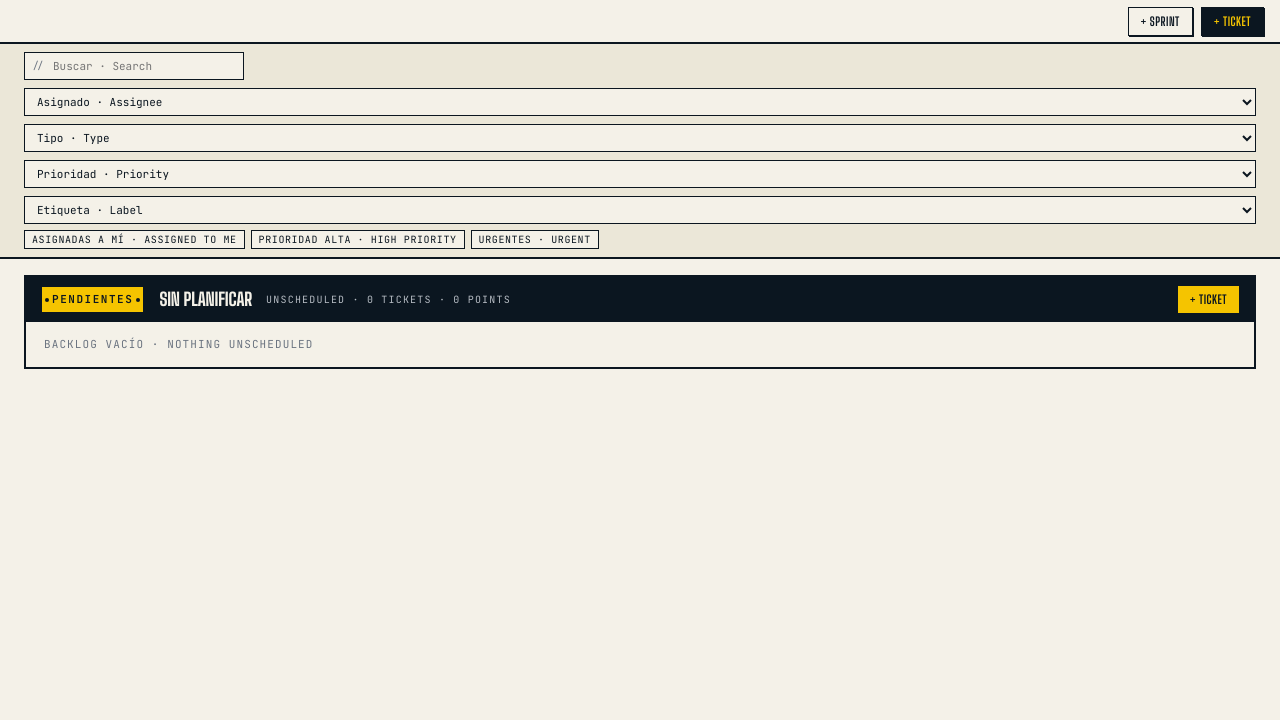
Test: BacklogPage (coverage) › shows the "Creando…" pending label while an issue is being created
The width and height of the screenshot is (1280, 720).
Expected: the text "PENDIENTES" is shown, [40,285,145,314]
Click the 1st button "+ Ticket".
click(1232, 21)  # box [1201,6,1264,36]
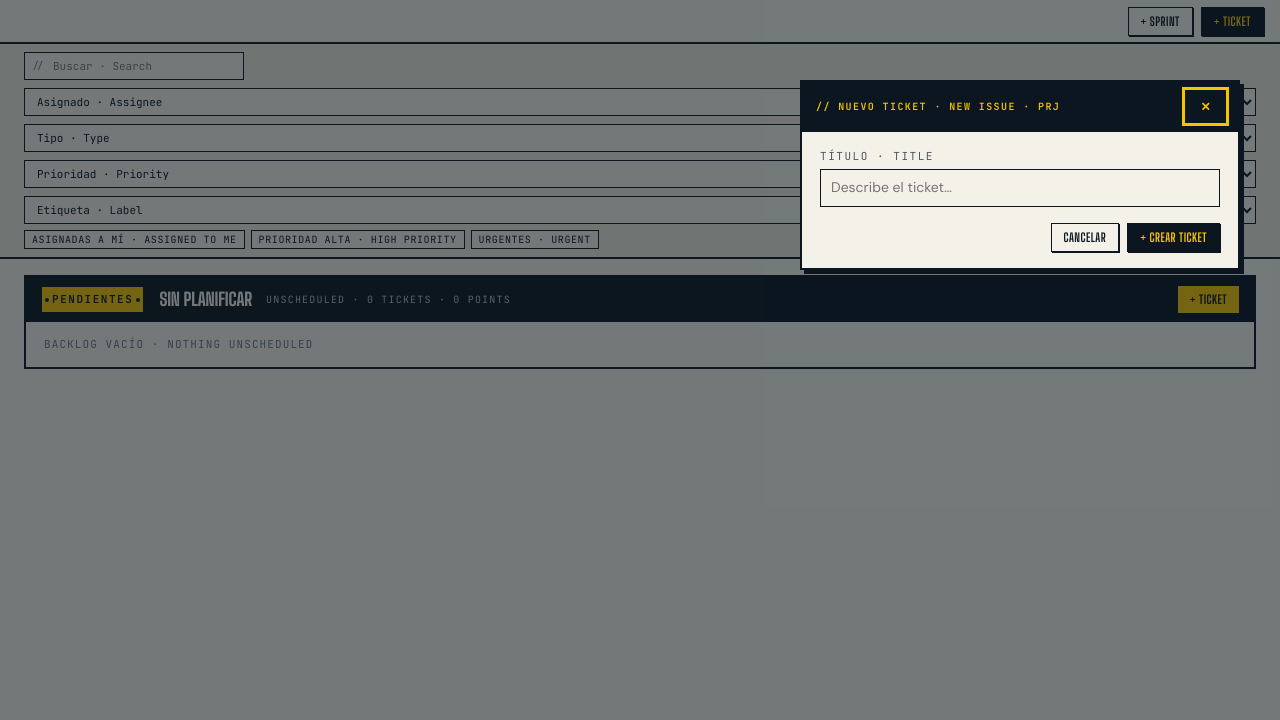
Expected: the text "// NUEVO TICKET · NEW ISSUE · PRJ" is shown, [816,99,1060,114]
Type "Slow ticket" into the field with placeholder "Describe el ticket…".
click(1020, 188); type("Slow ticket")  # box [820,169,1220,207]
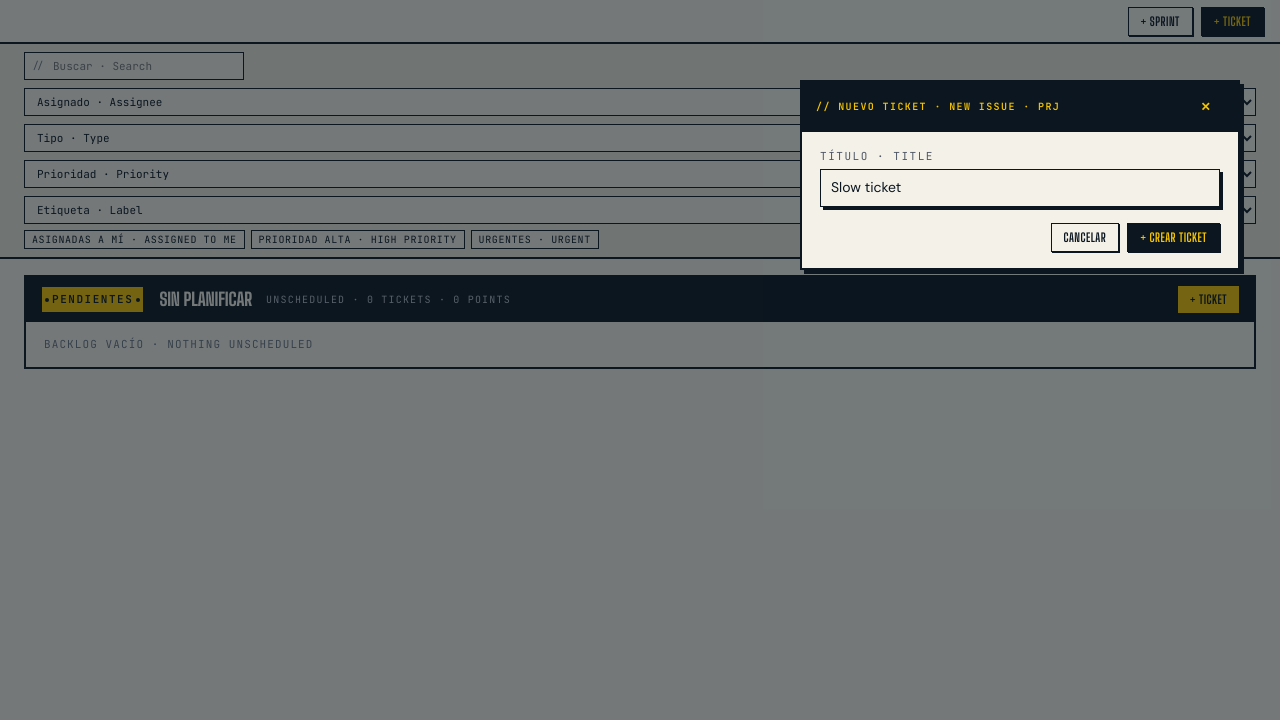
Click the button "+ Crear ticket".
click(1174, 237)  # box [1127,223,1220,252]
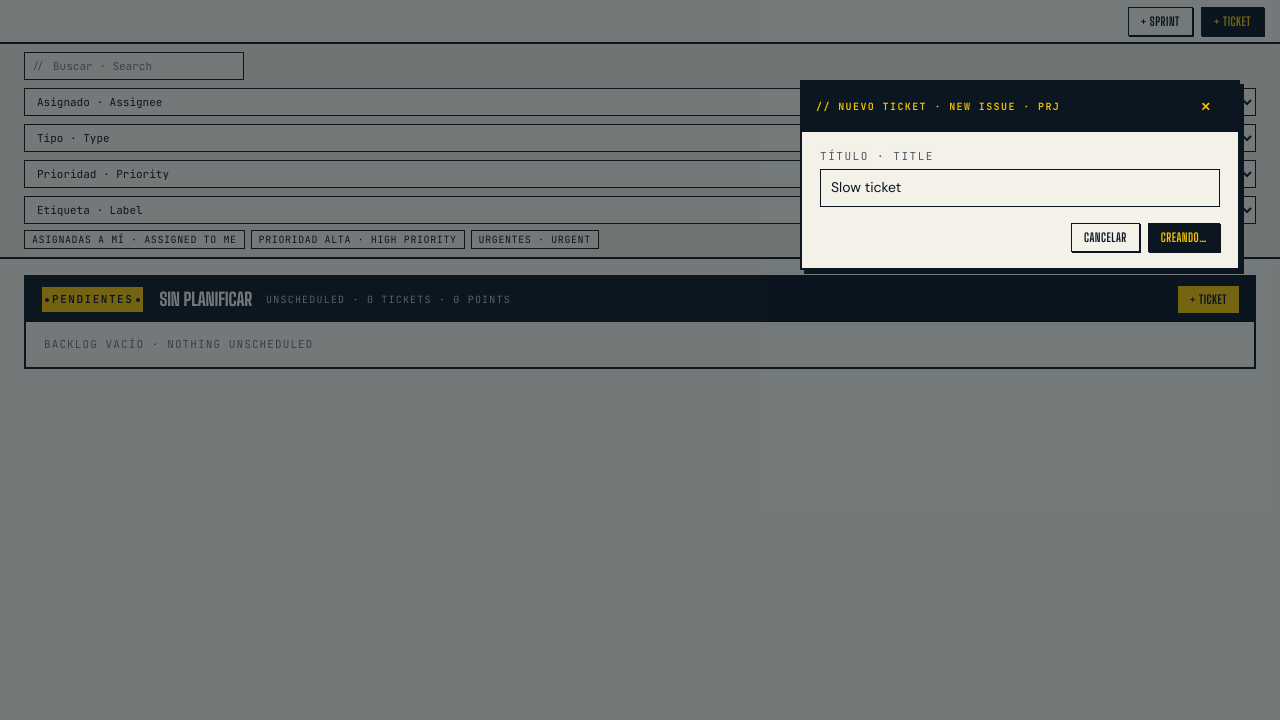
Expected: the button "Creando…" is shown, [1148,223,1220,252]
